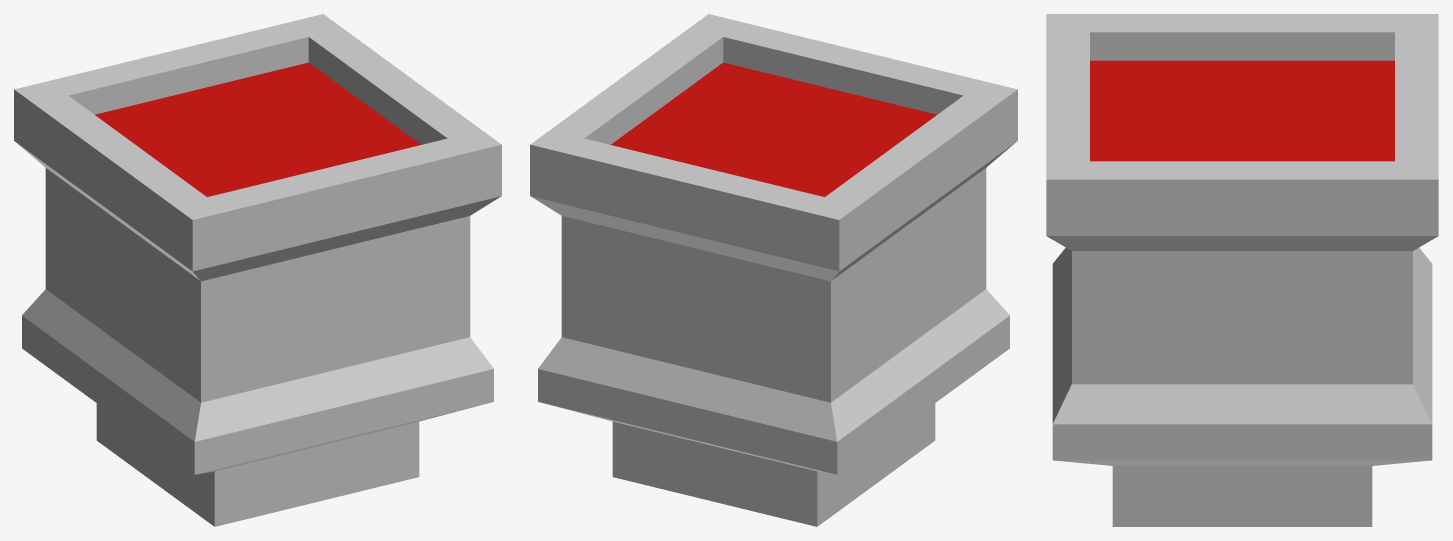
The model's file is forge.fbx.
The picture shows the model from 3 angles, left to right: view 1: azimuth 30°, elevation 25°; view 2: azimuth 150°, elevation 25°; view 3: azimuth 270°, elevation 25°; orthographic projection. The views are drawn at different scales.
Parts seen in each view (by area): view 1: Cube; view 2: Cube; view 3: Cube.
Part boxes in pixels (x1=…): Cube: x1=14, y1=14, x2=501, y2=526; Cube: x1=530, y1=14, x2=1017, y2=526; Cube: x1=1046, y1=14, x2=1438, y2=526.
Size of the model in its own units: 562 by 594 by 562.
